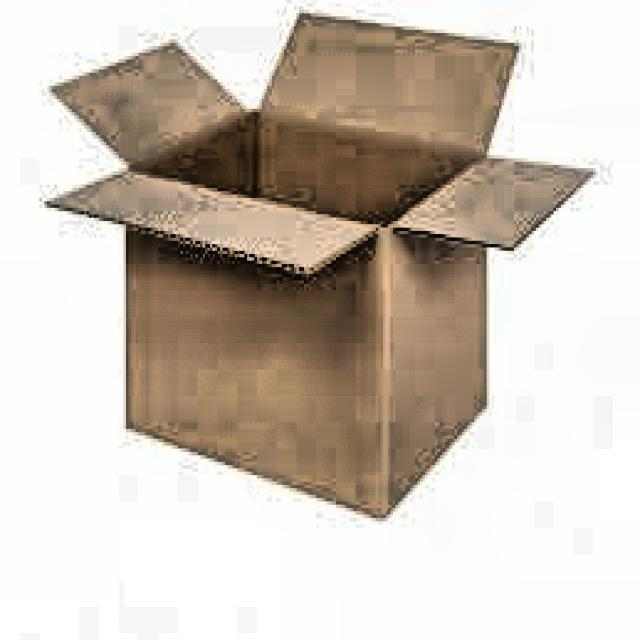cardboard: (42, 6, 596, 518)
